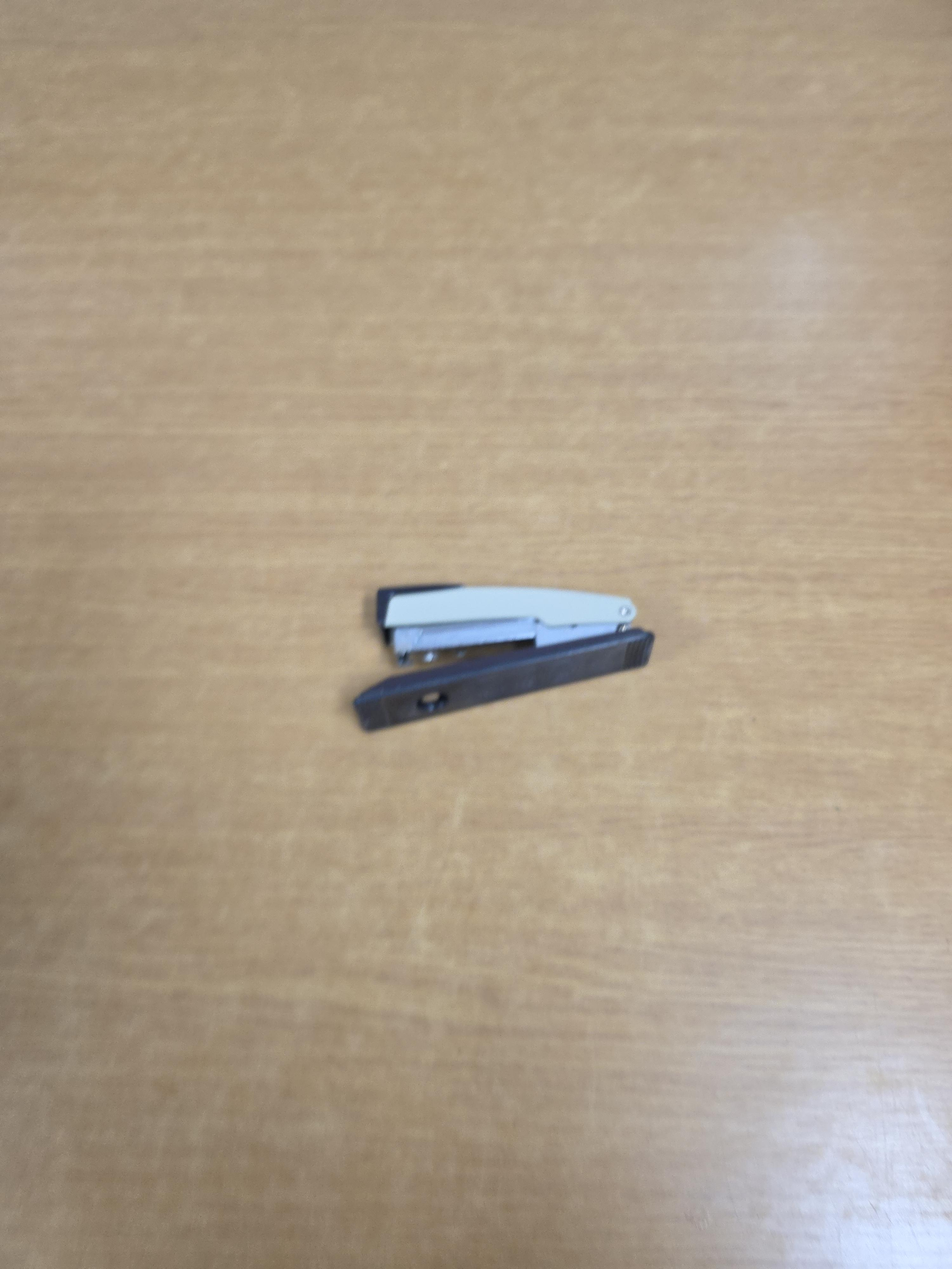stapler: (353, 583, 656, 732)
